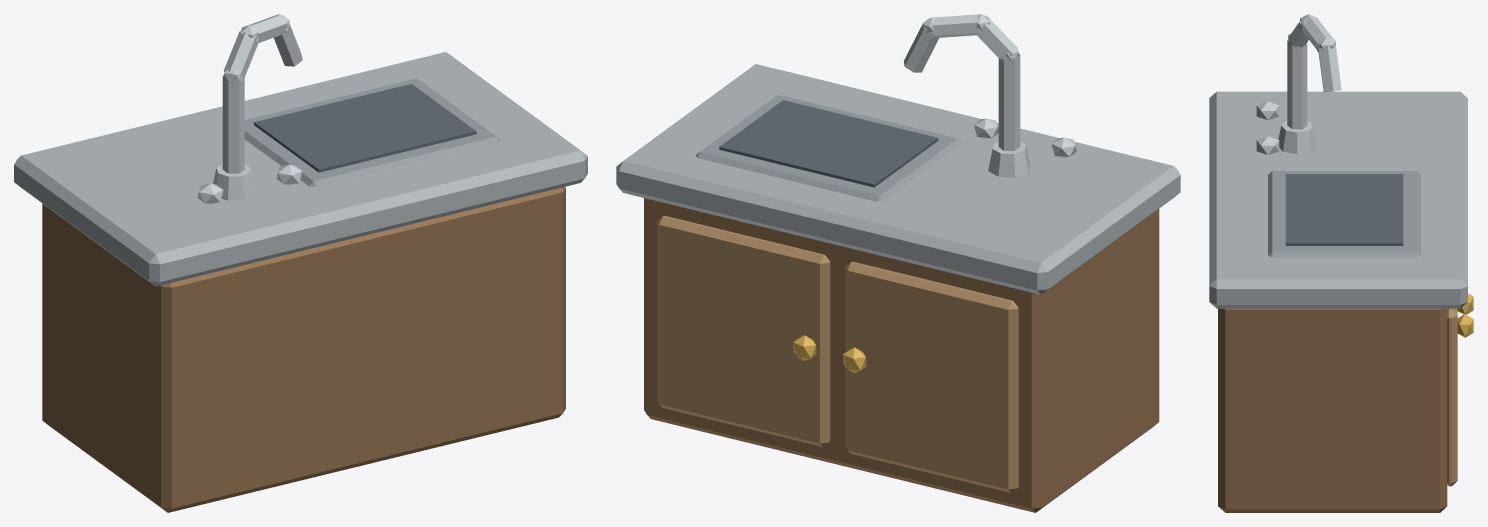
Rendered from BUILD0046_KitchenCounterSink.fbx.
The picture shows the model from 3 angles, left to right: view 1: azimuth 30°, elevation 25°; view 2: azimuth 150°, elevation 25°; view 3: azimuth 270°, elevation 25°; orthographic projection. The views are drawn at different scales.
Parts seen in each view (by area): view 1: BUILD0046_KitchenCounterSink; view 2: BUILD0046_KitchenCounterSink; view 3: BUILD0046_KitchenCounterSink.
Part boxes in pixels (<box>): BUILD0046_KitchenCounterSink: <box>14,14,587,512</box>; BUILD0046_KitchenCounterSink: <box>616,14,1180,512</box>; BUILD0046_KitchenCounterSink: <box>1209,14,1473,512</box>.
Size of the model in its own units: 1.56 by 1.44 by 0.8998.
